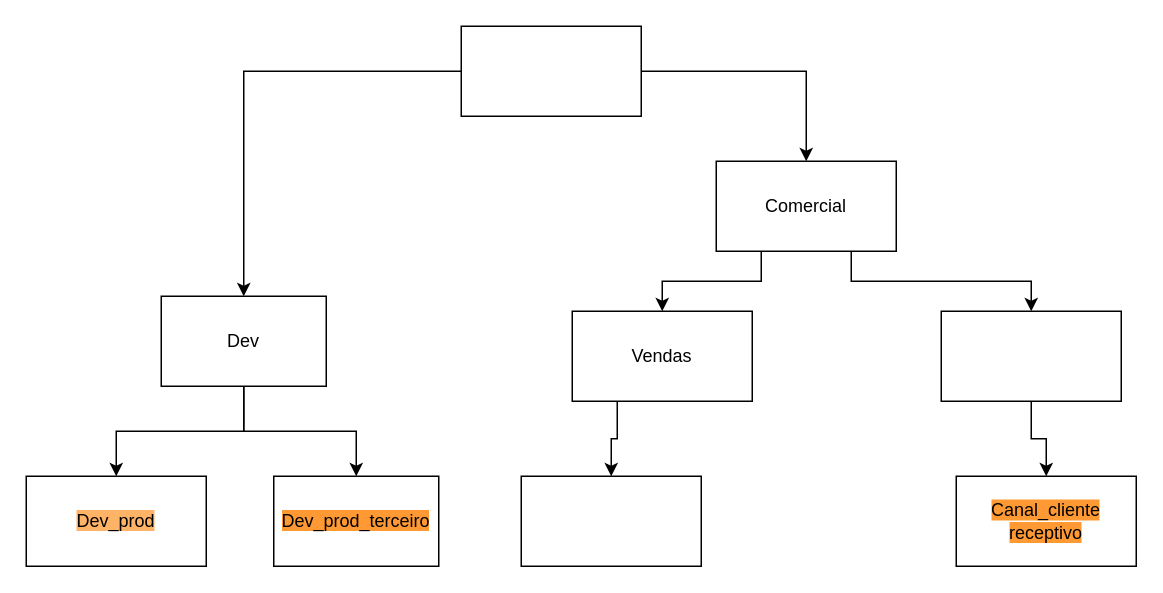
This 1163x593 diagram has some shape labels left out. The shapes that lost their labels are listed below. From the top down, each one's centre as x and y in pixels, then its label:
At point (550, 70): "Empresa_Zé".
At point (1030, 355): "Atendimento ao cliente".
At point (610, 520): "captação_prospec ativo".
